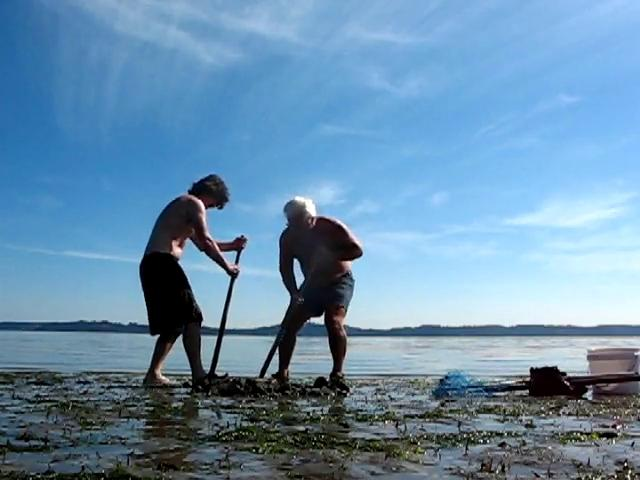victim: (136, 170, 242, 394), (264, 196, 365, 396)
